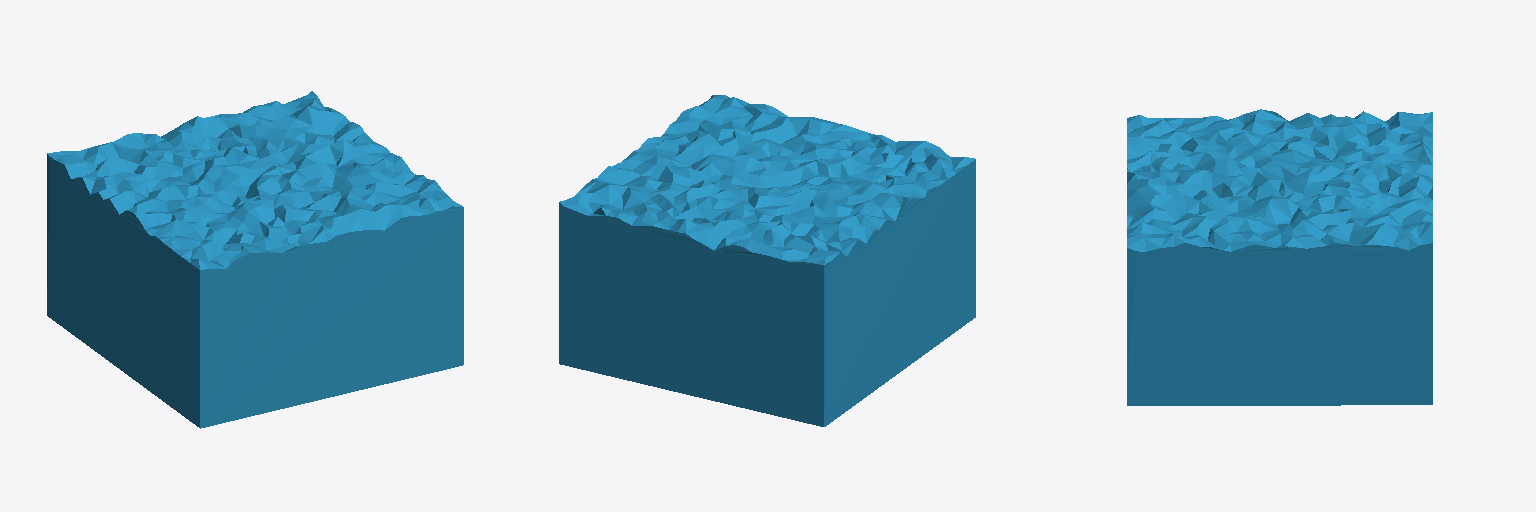
The model's file is water_000011.obj.
3 renders of one model, left to right at view 1: azimuth 30°, elevation 25°; view 2: azimuth 150°, elevation 25°; view 3: azimuth 270°, elevation 25°, orthographic.
Parts seen in each view (by area): view 1: Plane; view 2: Plane; view 3: Plane.
Part boxes in pixels (bbox=[...]): Plane: bbox=[47, 91, 463, 428]; Plane: bbox=[559, 95, 975, 426]; Plane: bbox=[1127, 109, 1432, 405].
Size of the model in its own units: 16.15 by 9.95 by 16.12.